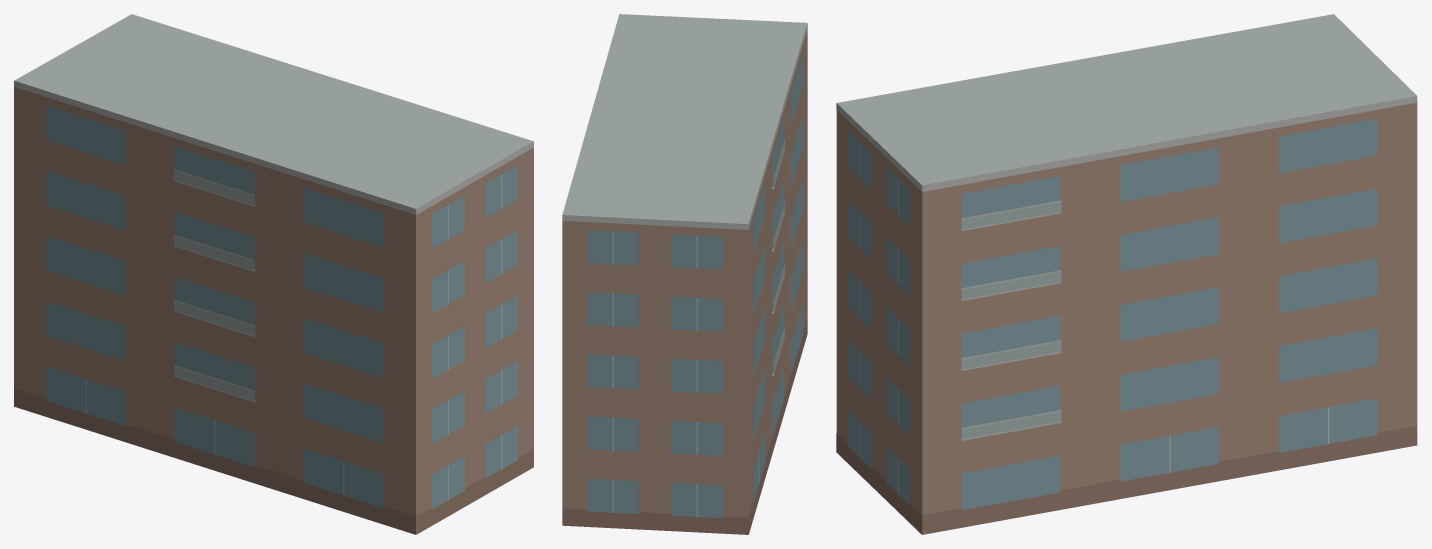
Rendered from survey-upis-33000373.glb.
The picture shows the model from 3 angles, left to right: view 1: azimuth 30°, elevation 25°; view 2: azimuth 150°, elevation 25°; view 3: azimuth 270°, elevation 25°; orthographic projection. The views are drawn at different scales.
Visible parts, largest first — view 1: survey-upis-33000373.tmp; view 2: survey-upis-33000373.tmp; view 3: survey-upis-33000373.tmp.
Boxes of the visible parts, x1=… form: survey-upis-33000373.tmp: x1=14, y1=14, x2=533, y2=534; survey-upis-33000373.tmp: x1=562, y1=14, x2=807, y2=534; survey-upis-33000373.tmp: x1=836, y1=14, x2=1417, y2=534.
Bounding box in the file's own units: 13.69 × 13 × 19.59.
